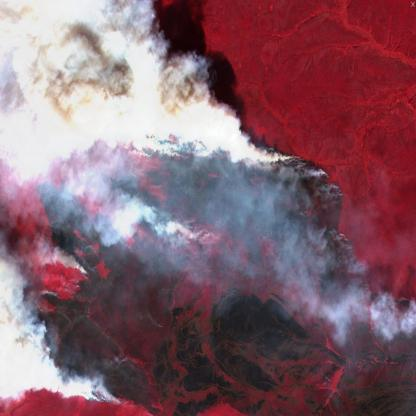fire: (0, 106, 415, 416)
